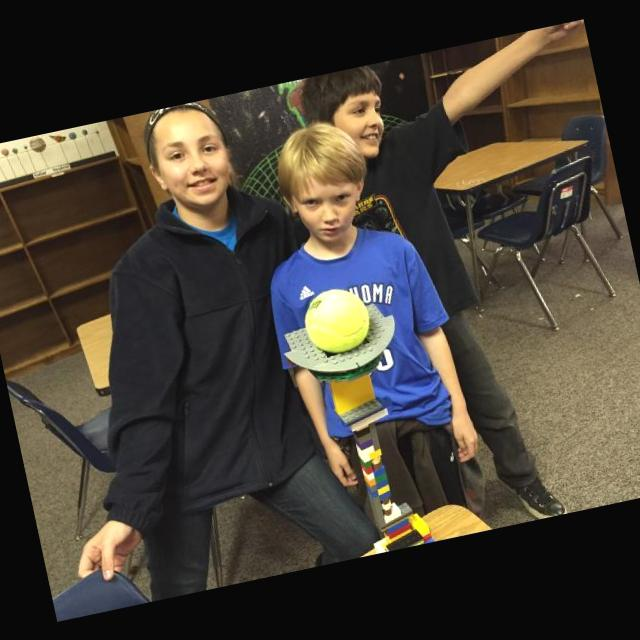tennis-ball: (297, 283, 373, 359)
